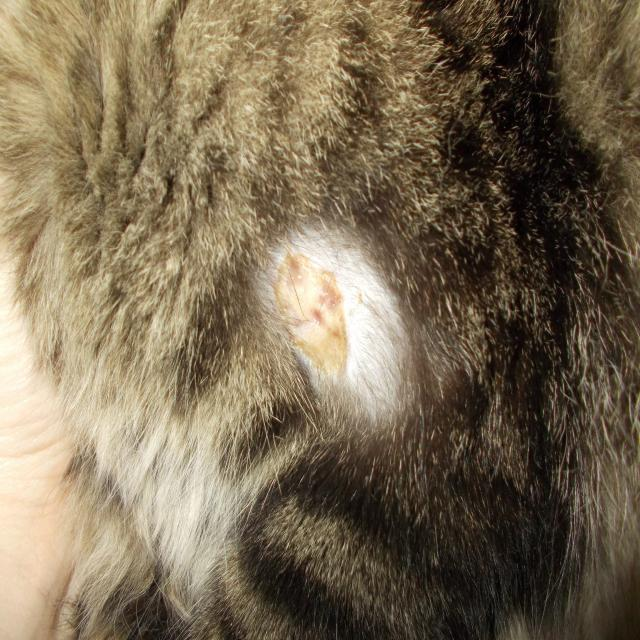hac lao: (216, 207, 440, 424)
